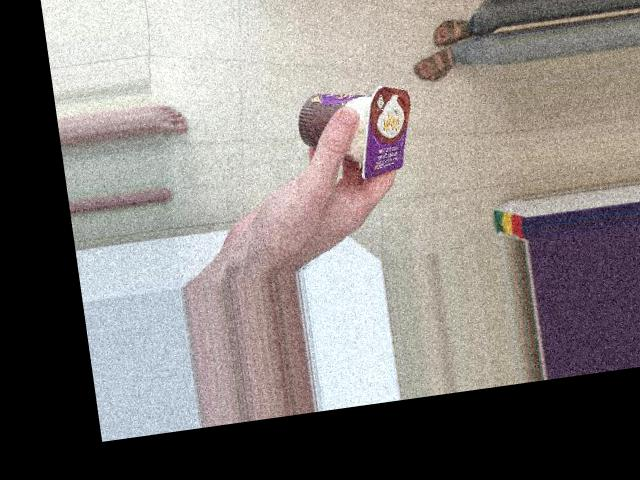milky: (325, 22, 427, 163)
